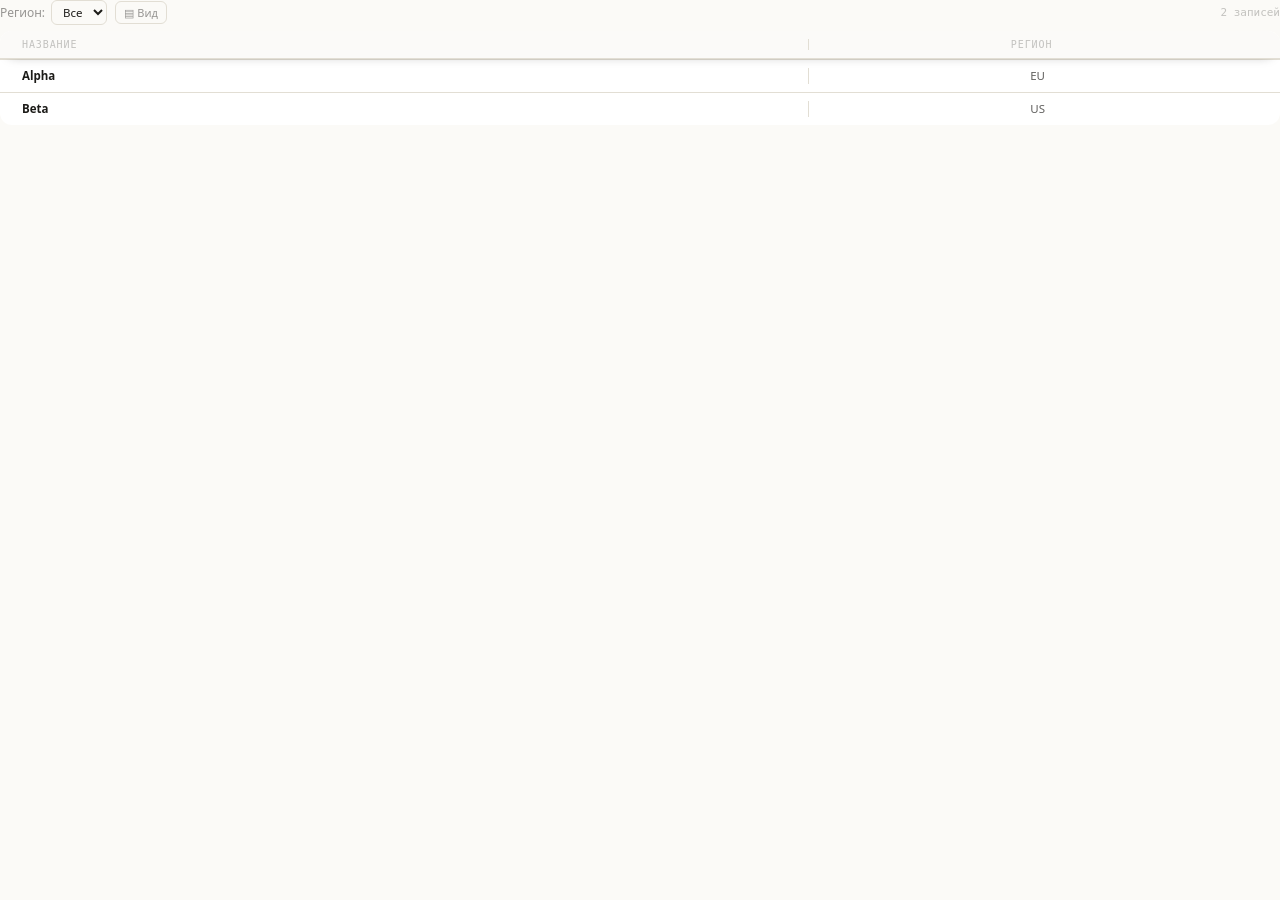
Test case: MindSheet › locks row height to one line while wrapping is off
Step 1. Click the button "▤ Вид" → (141, 12), box [115,1,167,24]
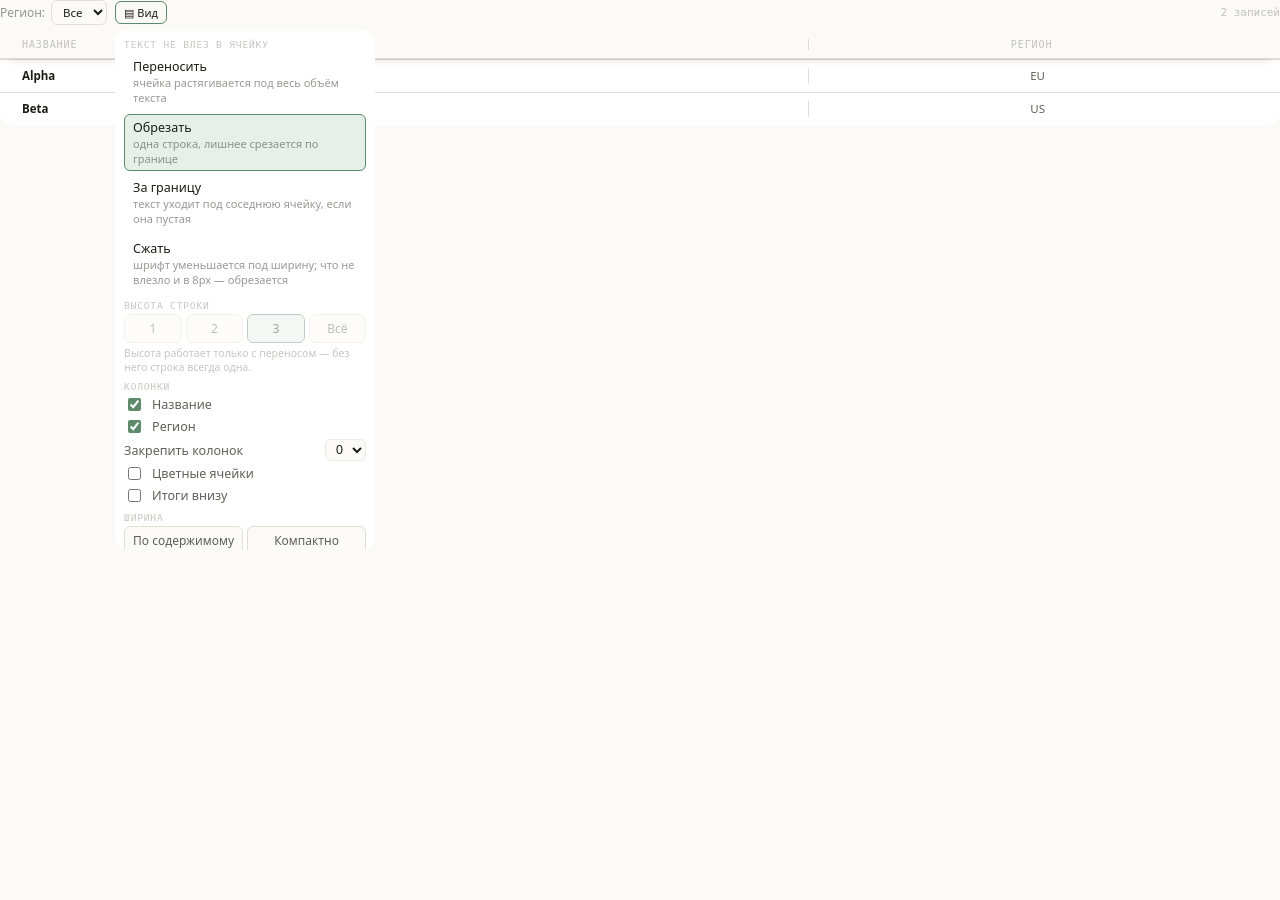
Check: the button "1" is disabled, box [124,314,182,343]
Check: the button "Всё" is disabled, box [309,314,366,343]
